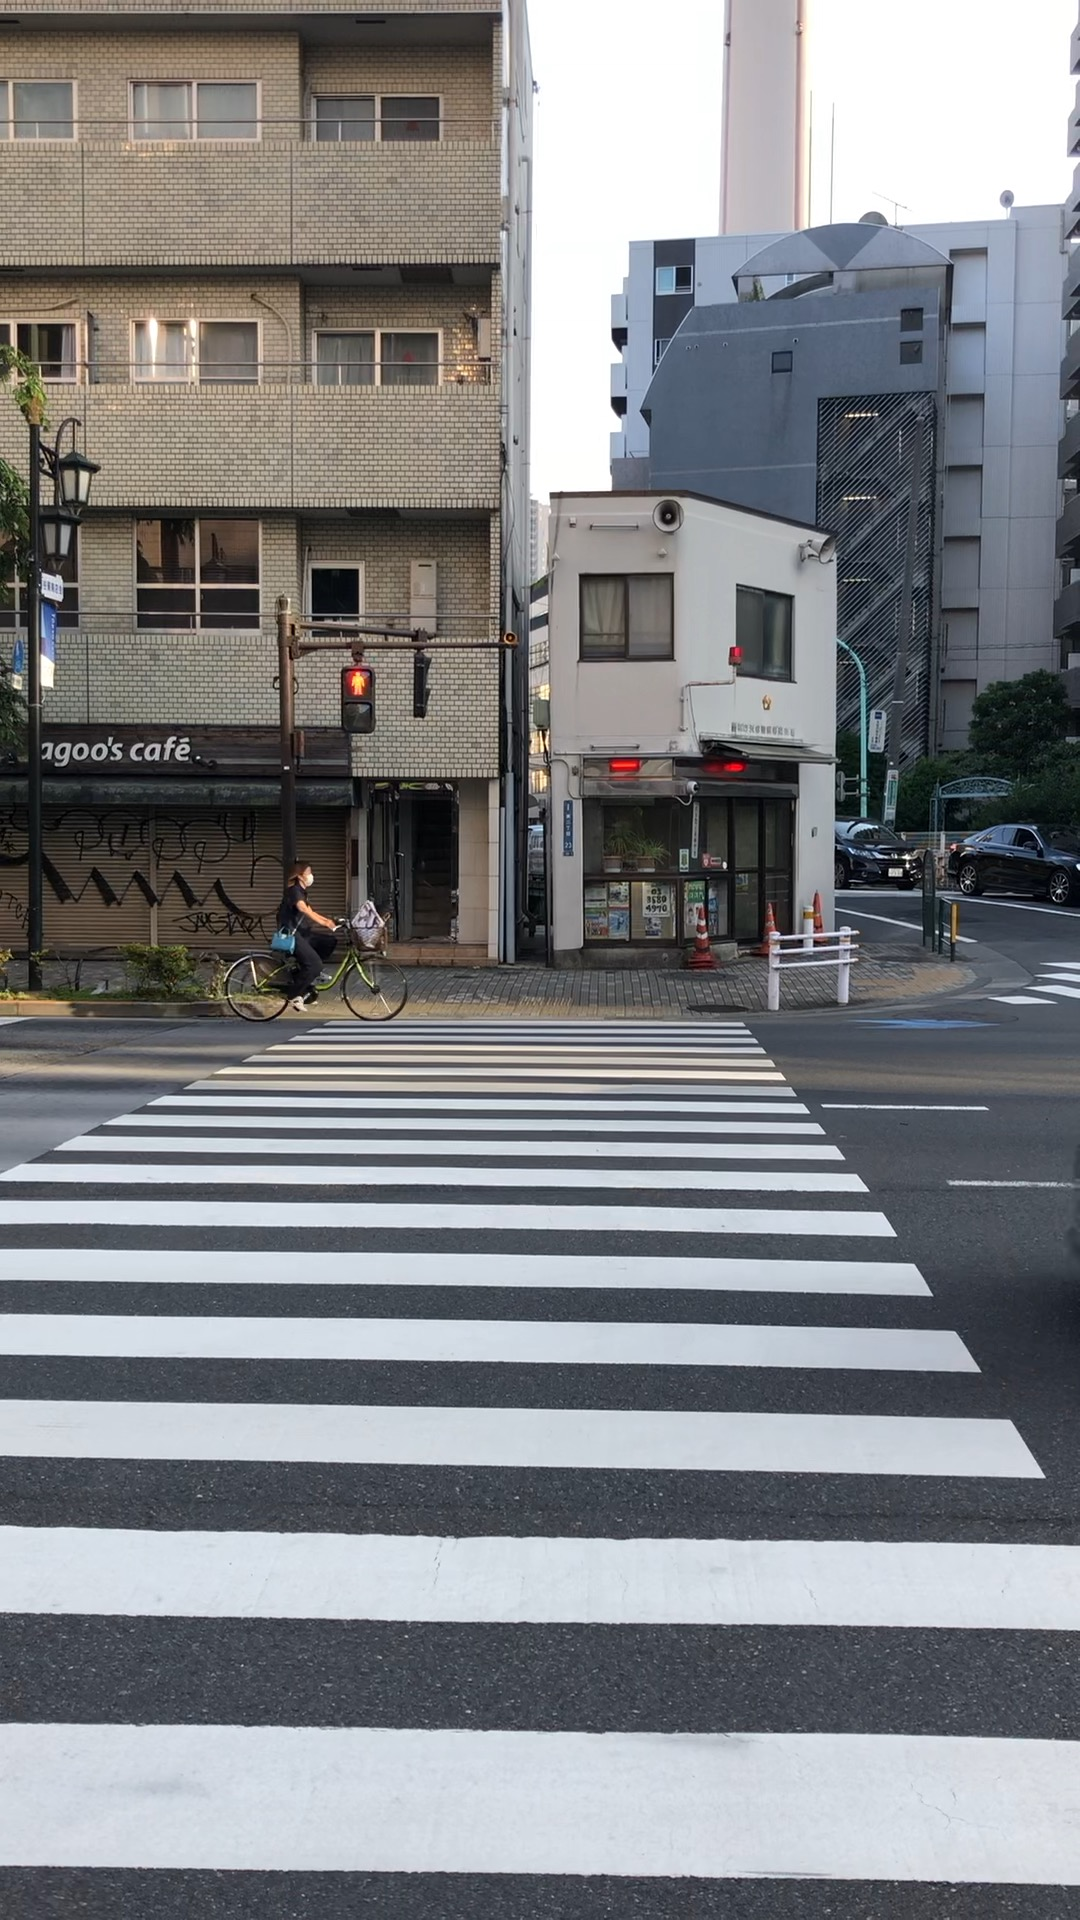red: (340, 666, 375, 735)
